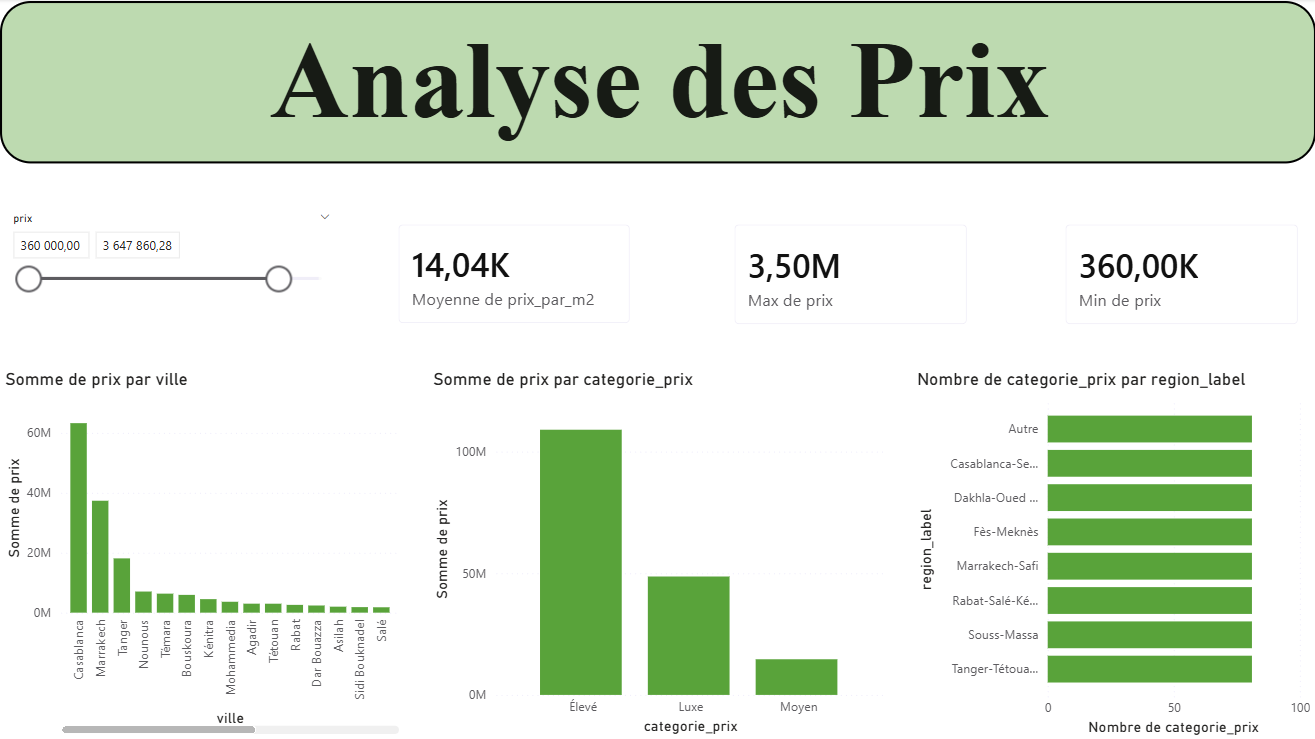

What the dashboard file says about the page in this screenshot:
{"tool":"powerbi","page":{"name":"Page 2","canvas":[1280,720],"ordinal":1},"visuals":[{"type":"clusteredColumnChart","fields":{"Category":["public dim_location.ville"],"Y":["Sum(public fact_listings.prix)"]},"box":[0,291.9,393.1,428.1],"z":0},{"type":"scatterChart","fields":{"Series":["public dim_property.categorie_prix"],"X":["Sum(public fact_listings.surface_m2)"],"Y":["Sum(public fact_listings.prix)"]},"box":[416.4,289.3,449.6,429],"z":1},{"type":"clusteredBarChart","fields":{"Y":["CountNonNull(public dim_property.categorie_prix)"],"Category":["public dim_location.region_label"]},"box":[887.7,291.8,392.3,429.1],"z":2},{"type":"cardVisual","fields":{"Data":["Max(public fact_listings.prix)"]},"box":[0,0,291.8,269.7],"z":3},{"type":"cardVisual","fields":{"Data":["Min(public fact_listings.prix)"]},"box":[416.9,0,353.1,269.7],"z":4},{"type":"cardVisual","fields":{"Data":["Avg(public fact_listings.prix_par_m2)"]},"box":[828.8,0,392.3,269.7],"z":5}]}

Visuals, with their boxes in screenshot pixels (x1, y1, x2, y2), scaled from the page's 1280x720 canvas onto the 1315x739 screenshot:
clusteredColumnChart - public dim_location.ville x Sum(public fact_listings.prix): [left=0, top=300, right=404, bottom=738]
scatterChart - public dim_property.categorie_prix x Sum(public fact_listings.surface_m2): [left=428, top=297, right=890, bottom=737]
clusteredBarChart - CountNonNull(public dim_property.categorie_prix) x public dim_location.region_label: [left=912, top=300, right=1314, bottom=738]
cardVisual - Max(public fact_listings.prix): [left=0, top=0, right=300, bottom=277]
cardVisual - Min(public fact_listings.prix): [left=428, top=0, right=791, bottom=277]
cardVisual - Avg(public fact_listings.prix_par_m2): [left=851, top=0, right=1254, bottom=277]
